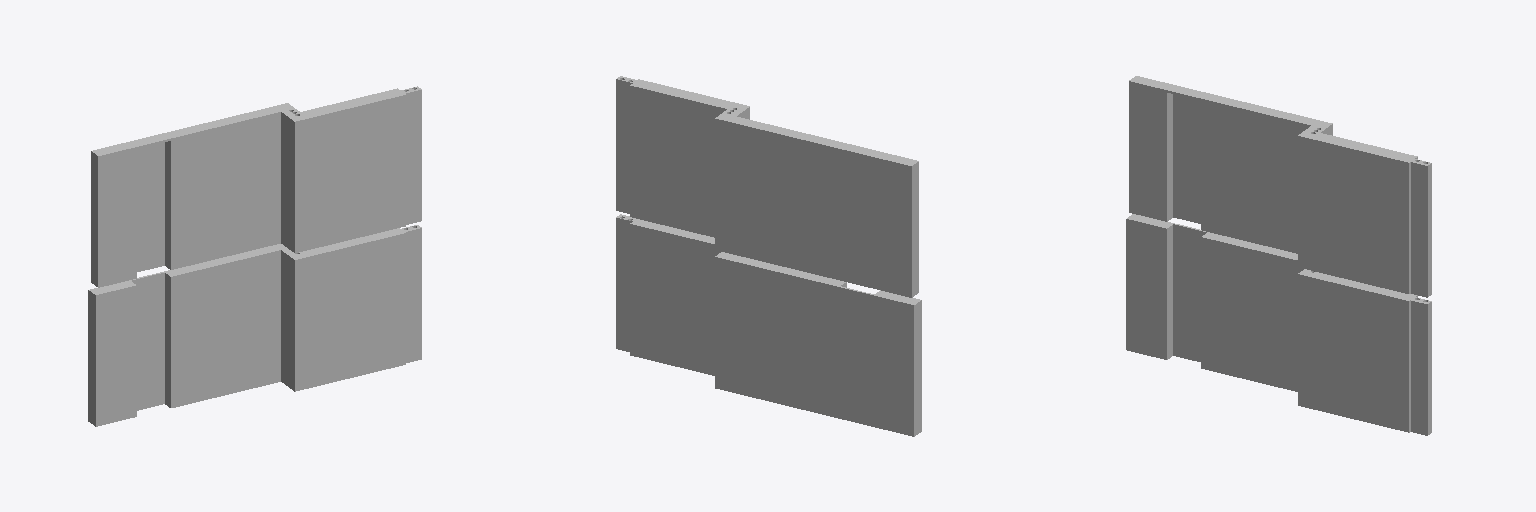
The picture shows the model from 3 angles: view 1: azimuth 30°, elevation 25°; view 2: azimuth 150°, elevation 25°; view 3: azimuth 330°, elevation 25°; orthographic projection.
Visible parts, largest first — view 1: Muret_Kompozit_001; view 2: Muret_Kompozit_001; view 3: Muret_Kompozit_001.
Boxes of the visible parts, x1=… form: Muret_Kompozit_001: x1=88, y1=86, x2=421, y2=426; Muret_Kompozit_001: x1=616, y1=76, x2=921, y2=436; Muret_Kompozit_001: x1=1126, y1=76, x2=1431, y2=435.
Size of the model in its own units: 290 by 238 by 33.85.